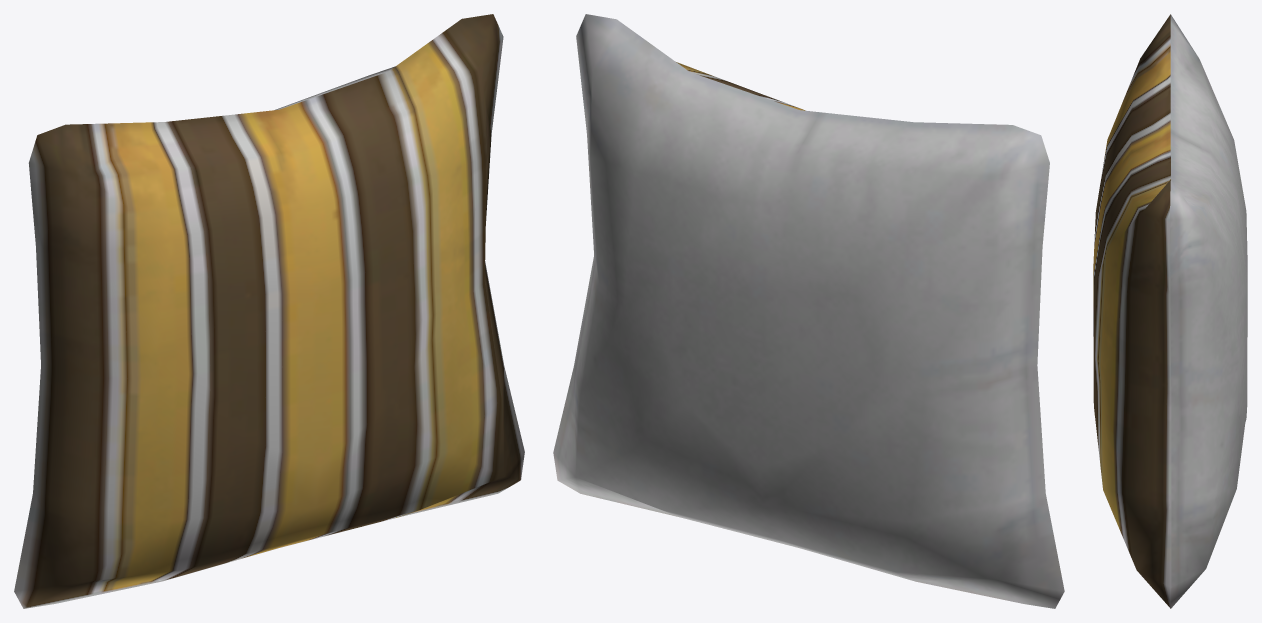
File: p6_pillow_boat_01_lod2.glb
The picture shows the model from 3 angles, left to right: view 1: azimuth 30°, elevation 25°; view 2: azimuth 150°, elevation 25°; view 3: azimuth 270°, elevation 25°; orthographic projection. The views are drawn at different scales.
Visible parts, largest first — view 1: surf0; view 2: surf0; view 3: surf0.
Boxes of the visible parts, x1,y1,x2,y2 form: surf0: (14, 14, 524, 608); surf0: (553, 14, 1064, 608); surf0: (1093, 14, 1247, 608).
Size of the model in its own units: 21.75 by 19.9 by 6.7.
